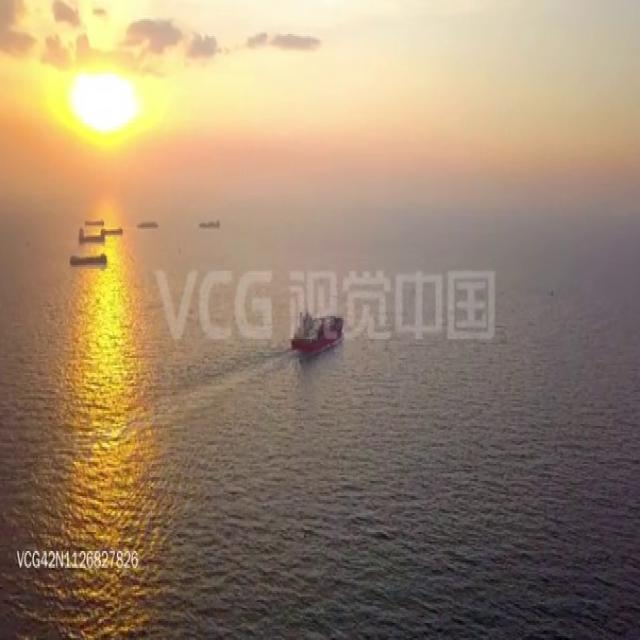cargoship: (278, 304, 348, 368), (62, 251, 116, 277), (74, 222, 104, 254)
